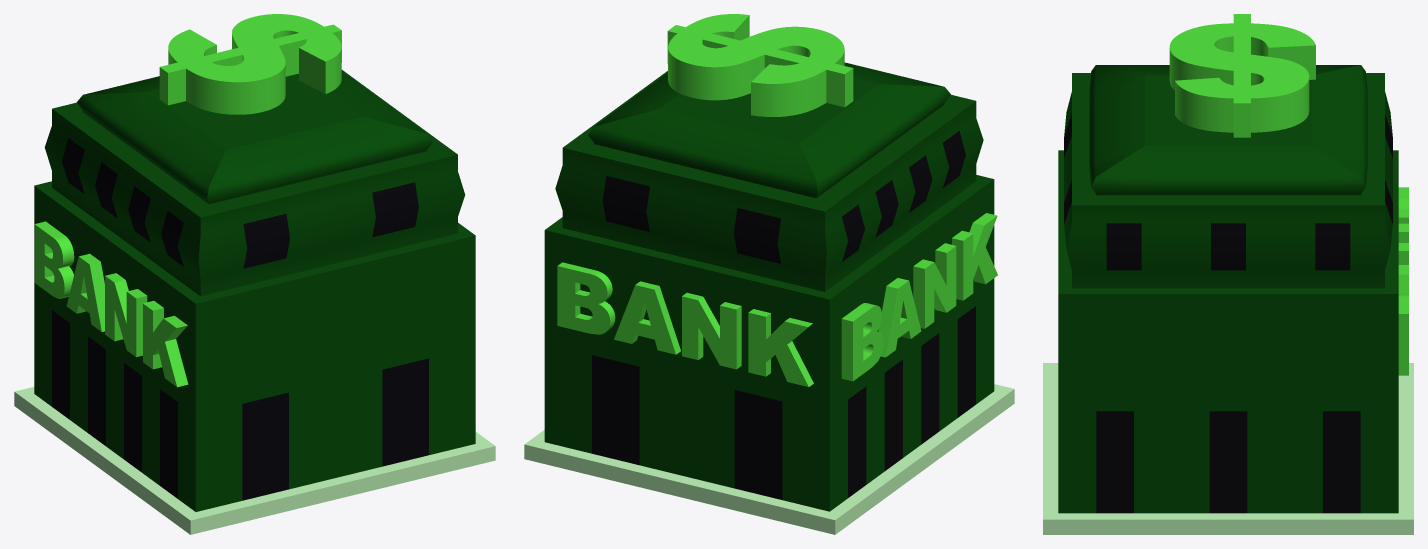
Rendered from Bank1.fbx.
The picture shows the model from 3 angles, left to right: view 1: azimuth 30°, elevation 25°; view 2: azimuth 150°, elevation 25°; view 3: azimuth 270°, elevation 25°; orthographic projection. The views are drawn at different scales.
Visible parts, largest first — view 1: BankBase002, BankLevelGrow007, BanrRoof002, LogoDollarBankTop002, Text005; view 2: BankBase002, BankLevelGrow007, BanrRoof002, LogoDollarBankTop002, Text006, Text005; view 3: BankBase002, BankLevelGrow007, BanrRoof002, LogoDollarBankTop002, Text006.
Boxes of the visible parts, x1,y1,x2,y2 form: BankBase002: (14, 181, 495, 534); BankLevelGrow007: (44, 70, 465, 296); BanrRoof002: (77, 71, 432, 204); LogoDollarBankTop002: (159, 14, 341, 114); Text005: (34, 221, 188, 387); BankBase002: (524, 175, 1014, 534); BankLevelGrow007: (555, 71, 983, 291); BanrRoof002: (588, 62, 950, 198); LogoDollarBankTop002: (667, 14, 853, 116); Text006: (557, 262, 813, 386); Text005: (841, 213, 997, 381); BankBase002: (1043, 150, 1413, 534); BankLevelGrow007: (1064, 73, 1392, 288); BanrRoof002: (1089, 65, 1367, 195); LogoDollarBankTop002: (1169, 14, 1315, 137); Text006: (1398, 187, 1408, 375).
Bounding box in the file's own units: 436 × 518 × 436.
